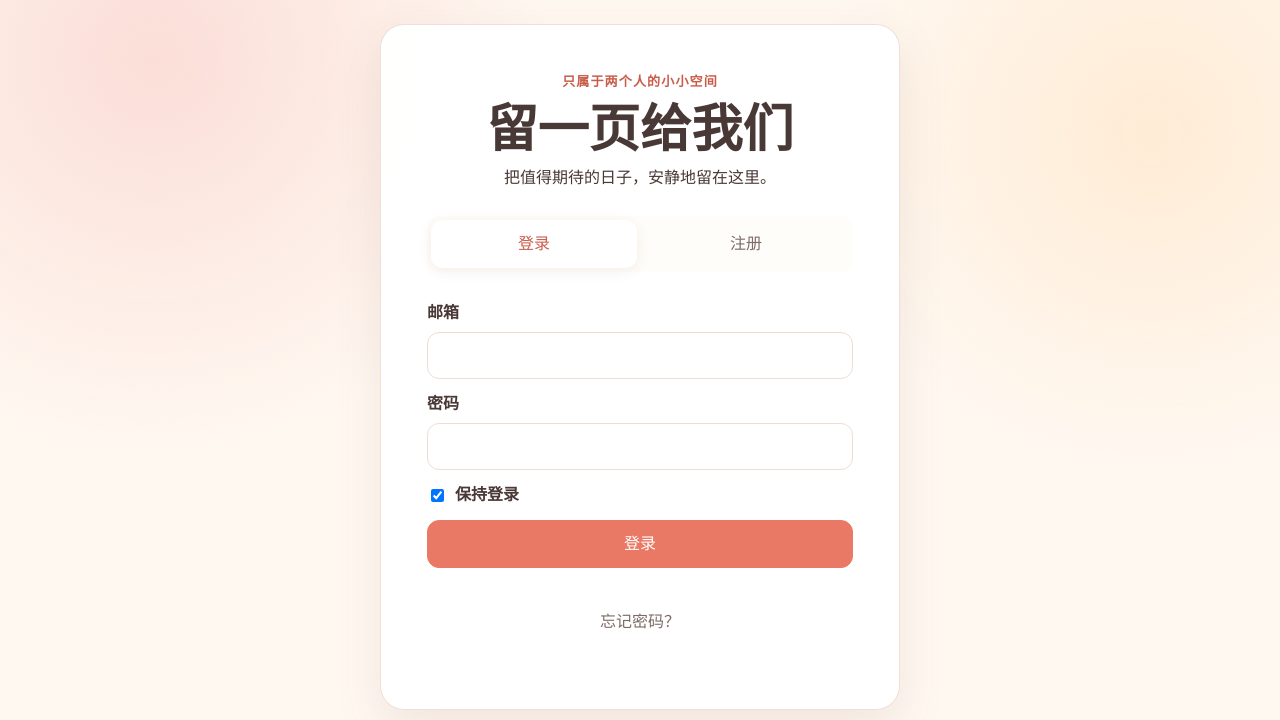
shows the verification notice returned by registration
The width and height of the screenshot is (1280, 720).
Click the tab "注册" at (746, 244), box [643,220,849,268]
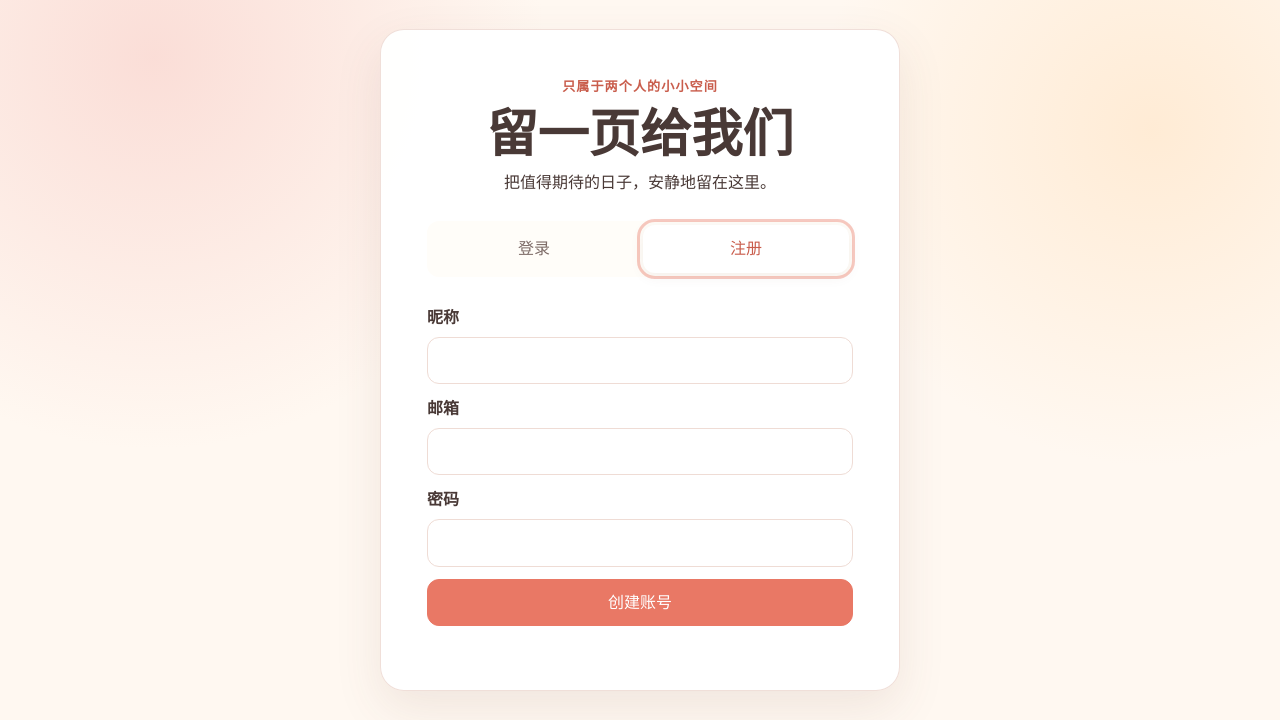
Type "小雨" into the field labelled "昵称" at (640, 360), box [427,336,853,384]
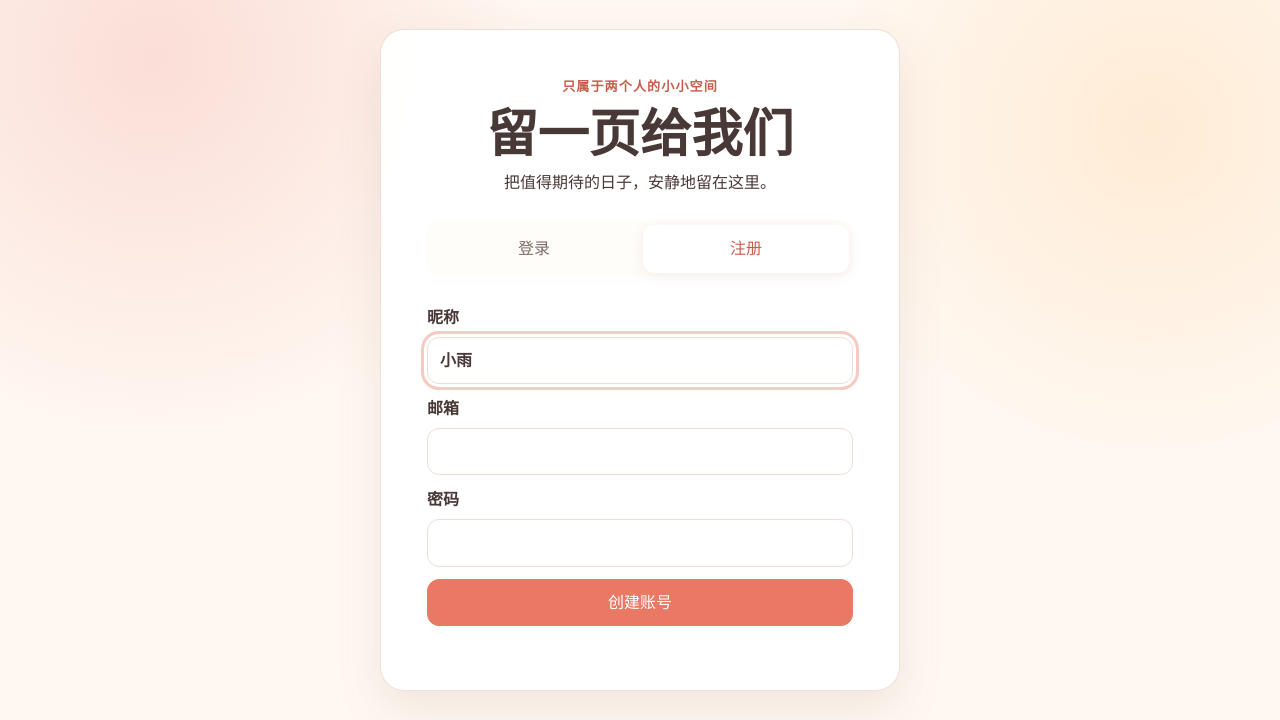
Type "me@example.com" into the field labelled "邮箱" at (640, 452), box [427,428,853,475]
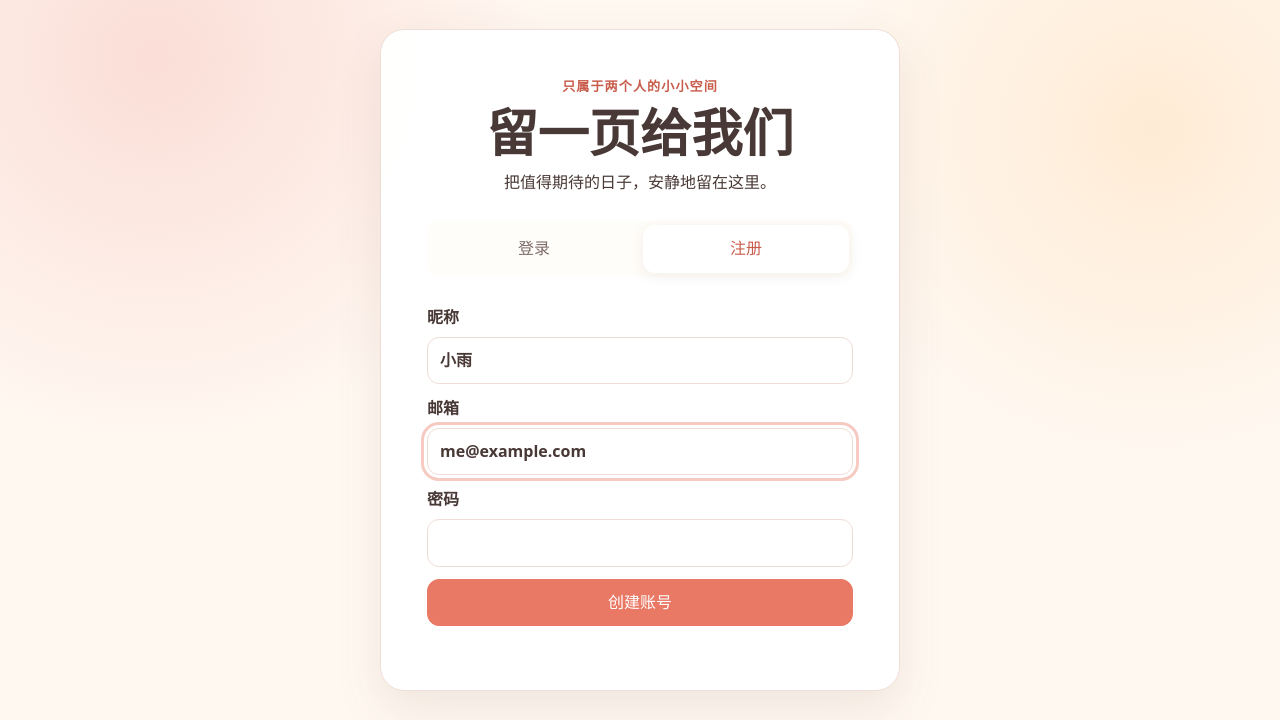
Type "secret123" into the password field labelled "密码" at (640, 543), box [427,519,853,566]
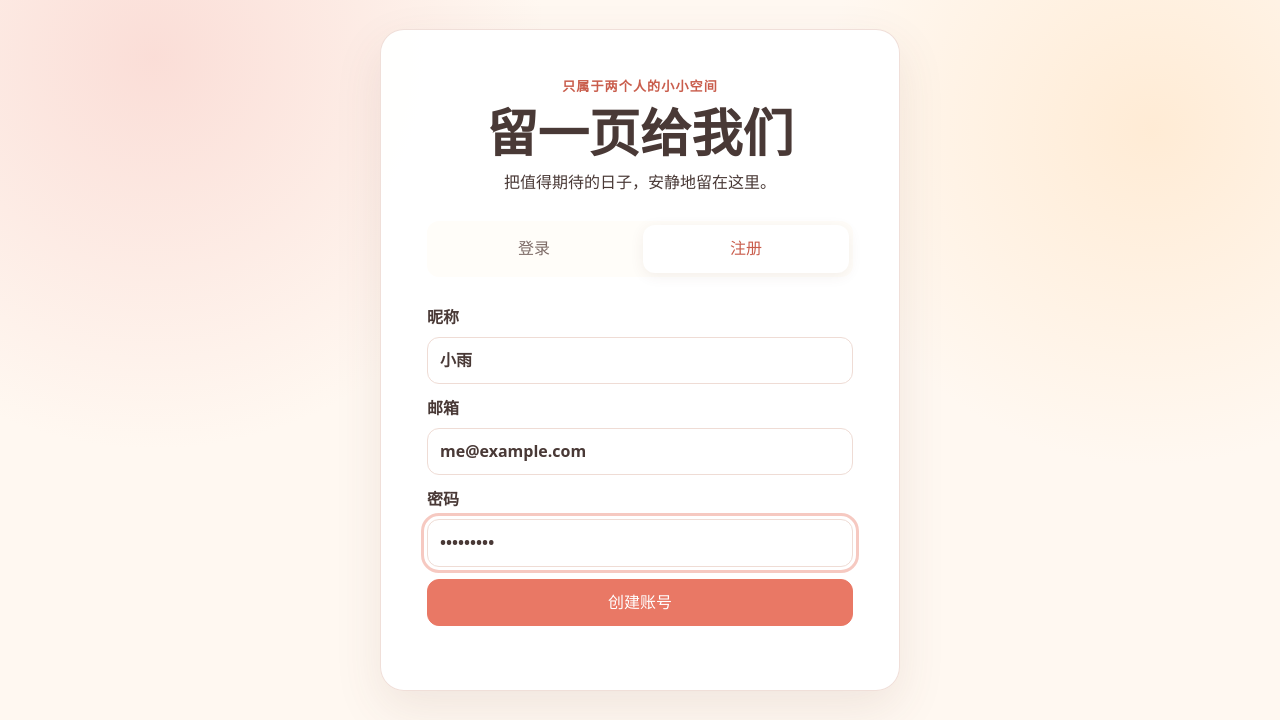
Click the button "创建账号" at (640, 602), box [427,578,853,626]
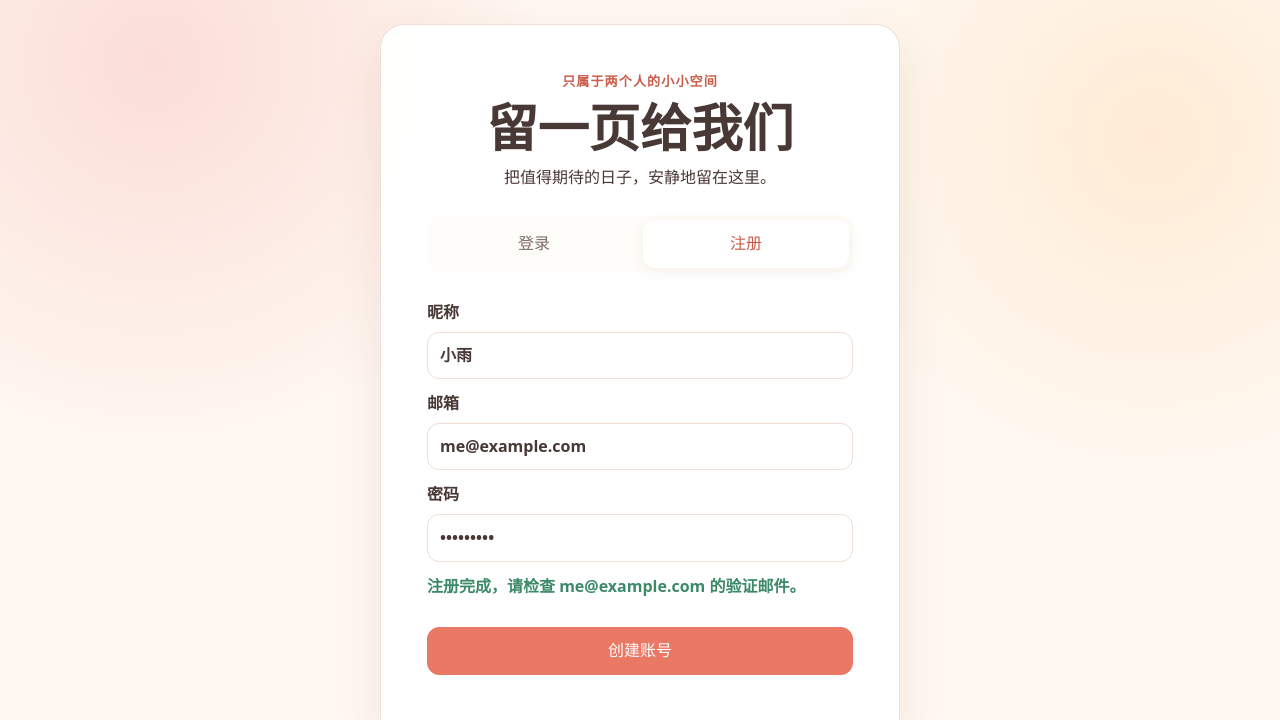
Result: the message shows "请检查 me@example.com" at [427,575,806,597]
